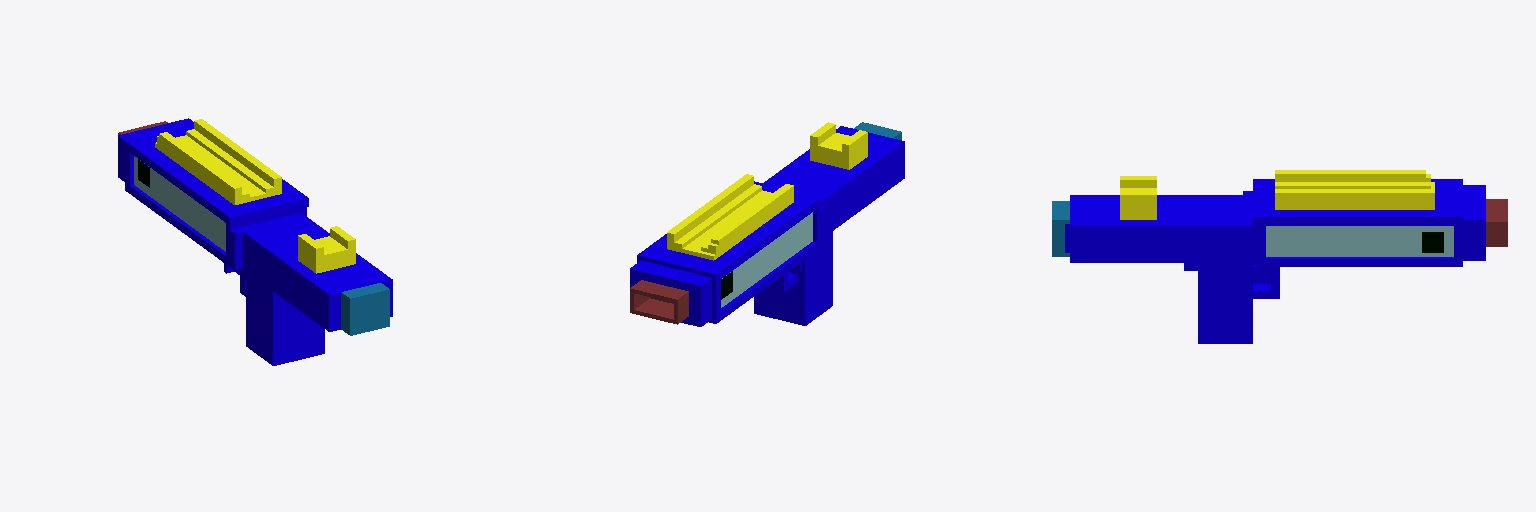
3 renders of one model, left to right at view 1: azimuth 30°, elevation 25°; view 2: azimuth 150°, elevation 25°; view 3: azimuth 270°, elevation 25°, orthographic.
Parts seen in each view (by area): view 1: object 1; view 2: object 1; view 3: object 1.
Part boxes in pixels (x1,y1,x2,y2): object 1: (118,118,392,365); object 1: (630,122,904,326); object 1: (1052,170,1507,343).
Size of the model in its own units: 2 by 3.6 by 10.
Materials: 1 (1 with a texture image).